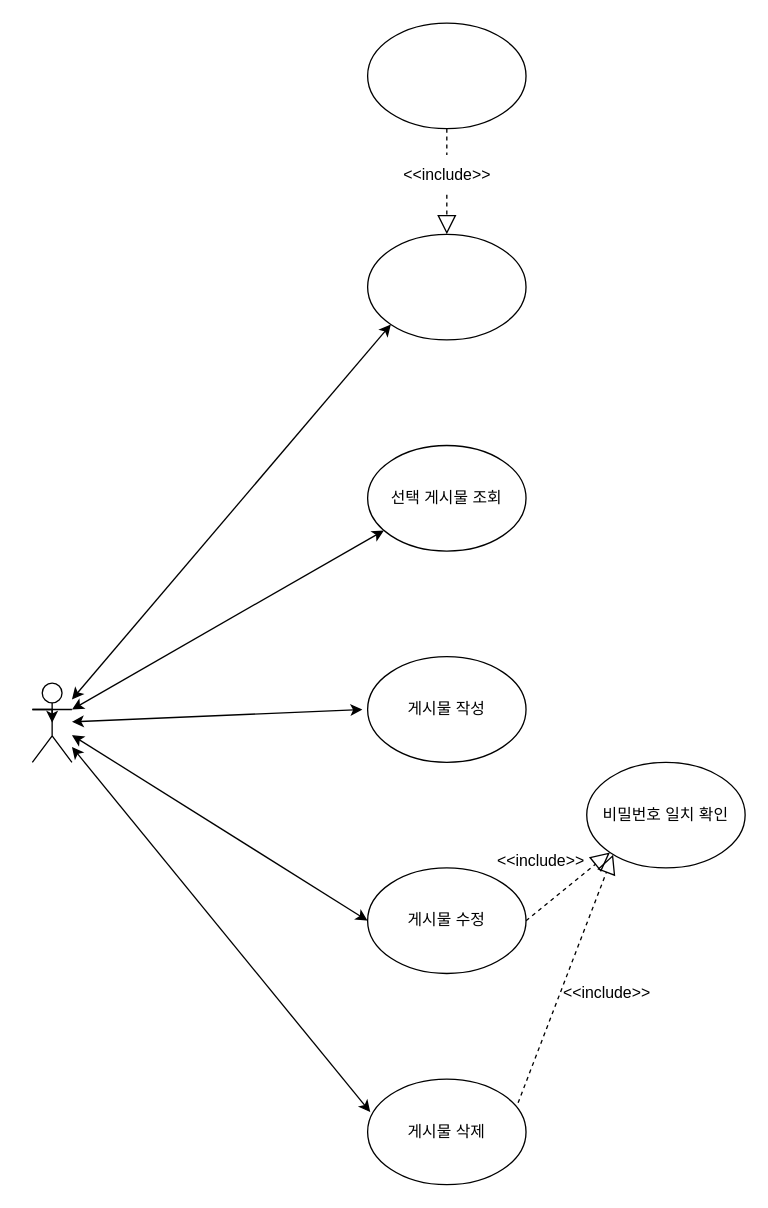
This 768x1208 diagram has some shape labels left out. Here are the shapes that lost their labels. From the top down, the centre of each, then its label:
(446,75): 작성 날짜 기준 내림차순으로 정렬
(446,286): 전체 게시물 목록 조회
(51,722): Actor
